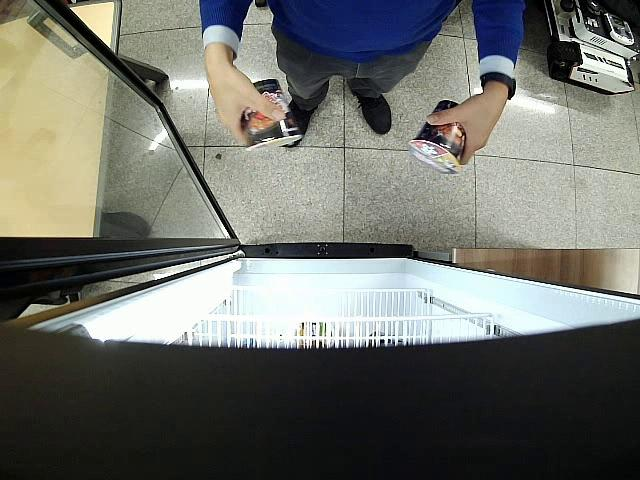00_hand: (206, 66, 286, 145), (427, 94, 506, 164)
08_buldak_S: (408, 99, 466, 175), (245, 78, 303, 152)
